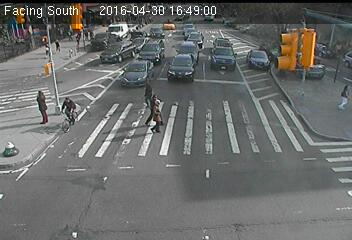neg: (50, 92, 81, 133), (158, 20, 180, 50), (74, 56, 91, 79), (113, 44, 129, 66), (191, 36, 207, 57), (243, 41, 258, 61), (214, 36, 227, 54)
pos: (27, 87, 55, 124), (143, 98, 169, 132), (336, 82, 351, 111), (51, 36, 64, 54), (84, 26, 96, 41), (41, 42, 51, 56), (72, 30, 81, 42), (67, 28, 75, 39)
